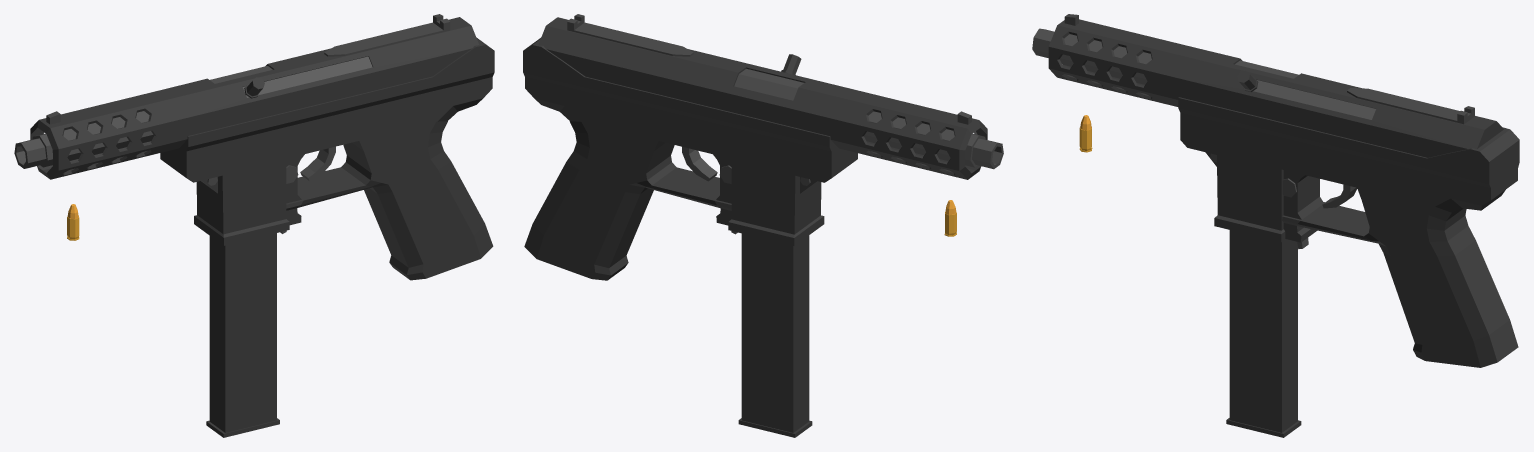
The model's file is Tec-9.fbx.
3 views of the same model, side by side, from view 1: azimuth 30°, elevation 25°; view 2: azimuth 150°, elevation 25°; view 3: azimuth 330°, elevation 25° (orthographic).
Parts seen in each view (by area): view 1: Tec-9, Mag; view 2: Tec-9, Mag; view 3: Tec-9, Mag.
Part boxes in pixels (bbox=[...]): Tec-9: bbox=[14, 14, 494, 280]; Mag: bbox=[206, 233, 279, 437]; Tec-9: bbox=[523, 14, 1003, 280]; Mag: bbox=[738, 233, 812, 437]; Tec-9: bbox=[1032, 14, 1519, 367]; Mag: bbox=[1226, 230, 1301, 437].
Bounding box in the file's own units: 984 × 731 × 130.
Materials: 1 (1 with a texture image).
